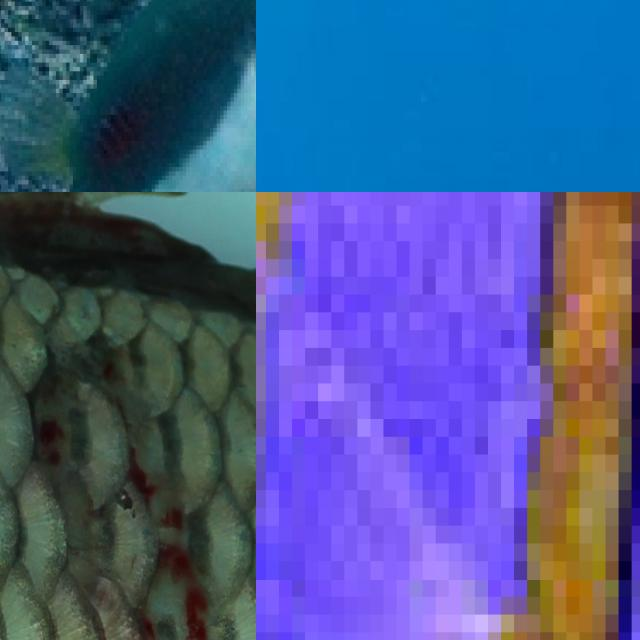fish: (256, 192, 640, 640), (0, 192, 256, 640), (0, 0, 256, 192)
